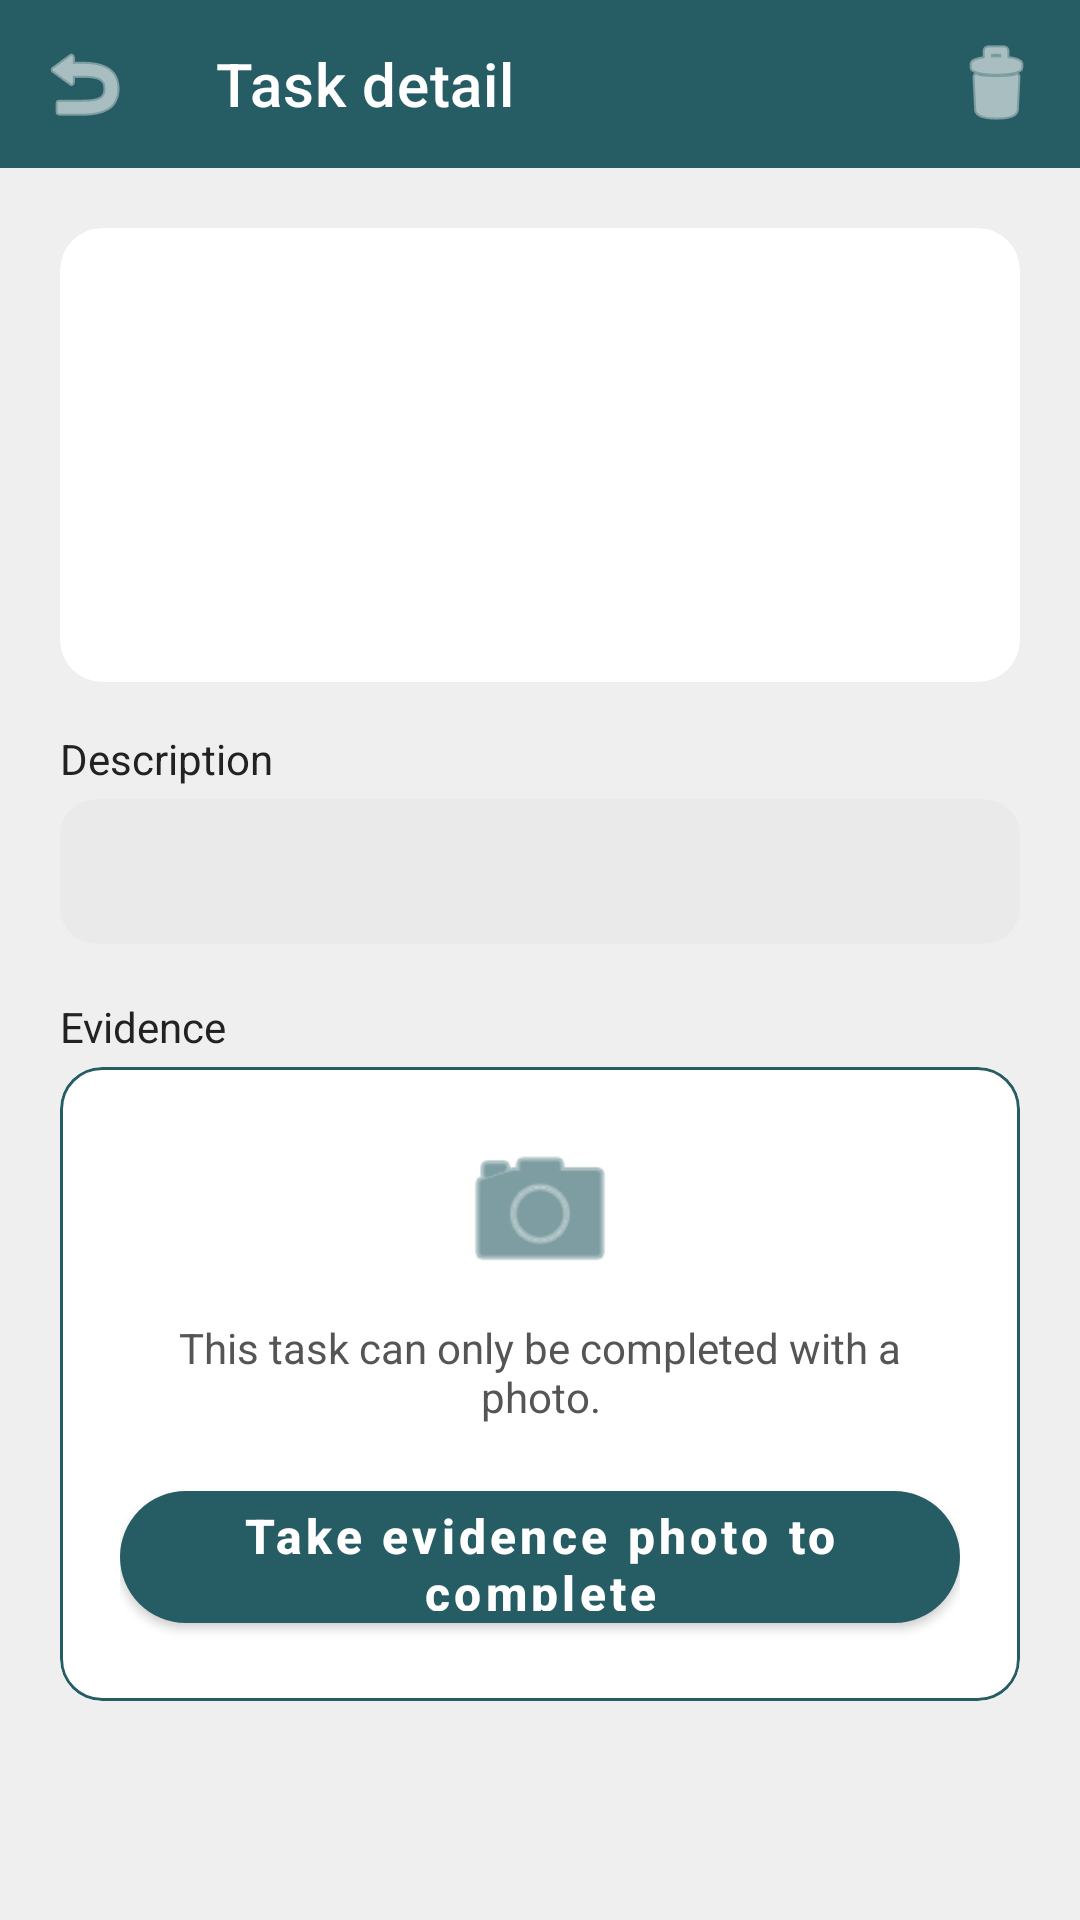

Icons on this 1080px x 1920px Android screen, each with its box as (x1, y1, x2, y2):
Take evidence photo to complete: (475, 1157, 605, 1260)
